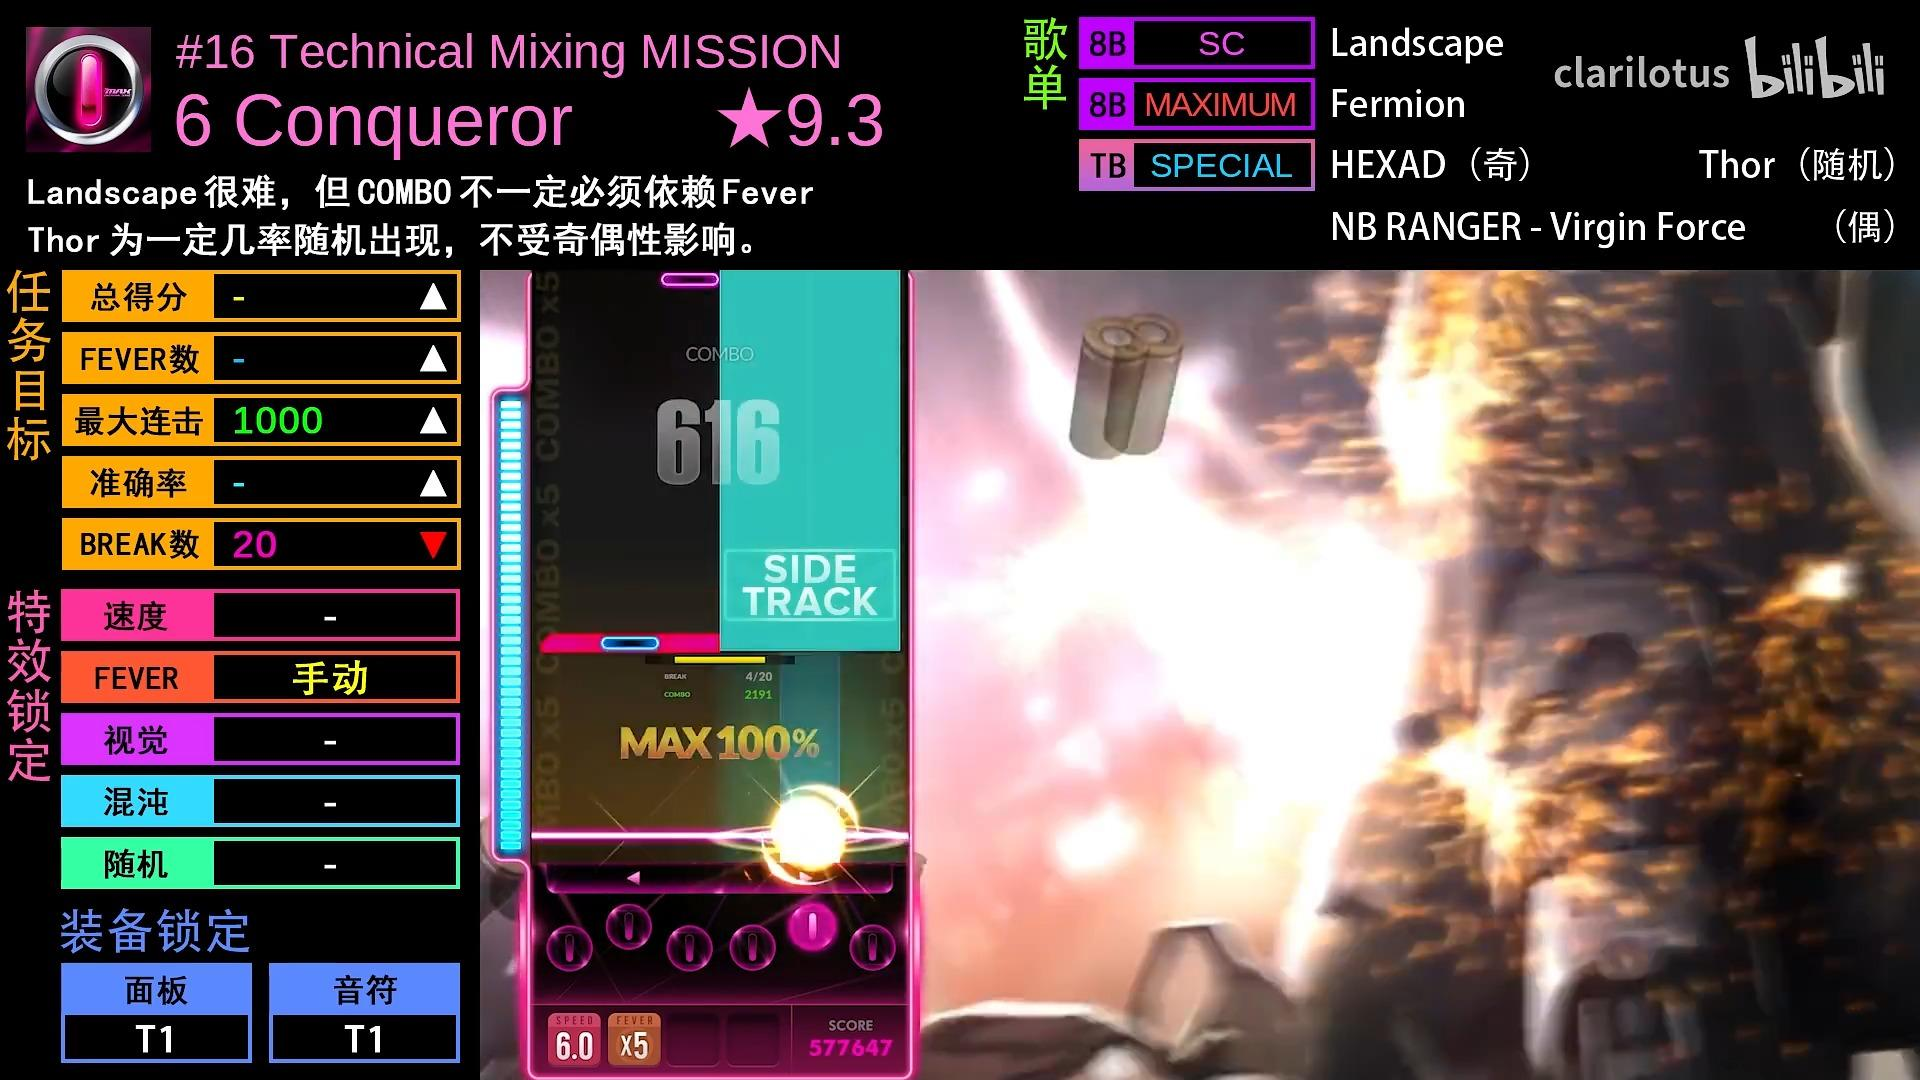note: (597, 636, 661, 651), (659, 272, 719, 287)
side-start: (720, 632, 901, 653)
xnote: (538, 633, 719, 651)
